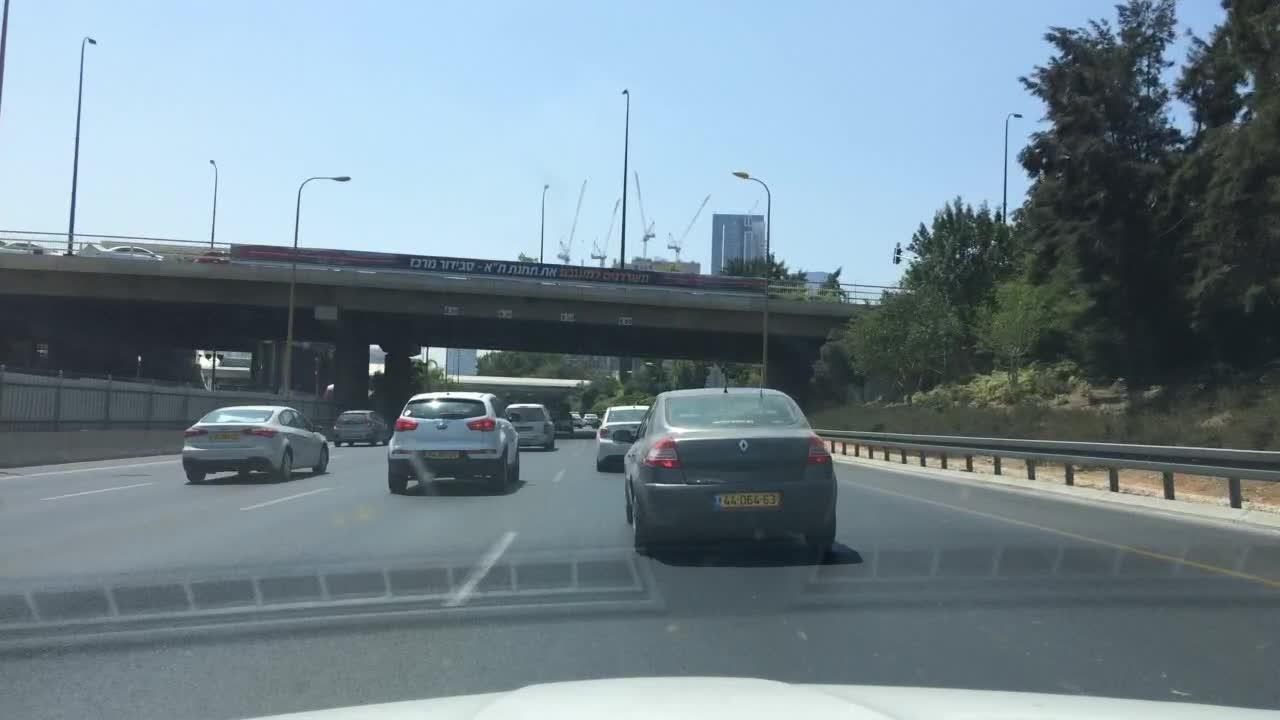Renault: (731, 433, 758, 463)
